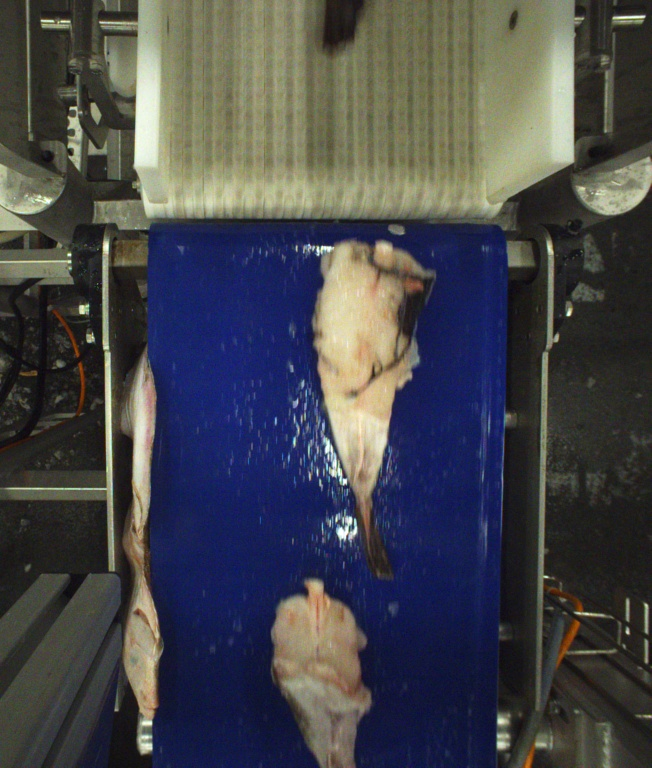ANF: (268, 583, 370, 768)
